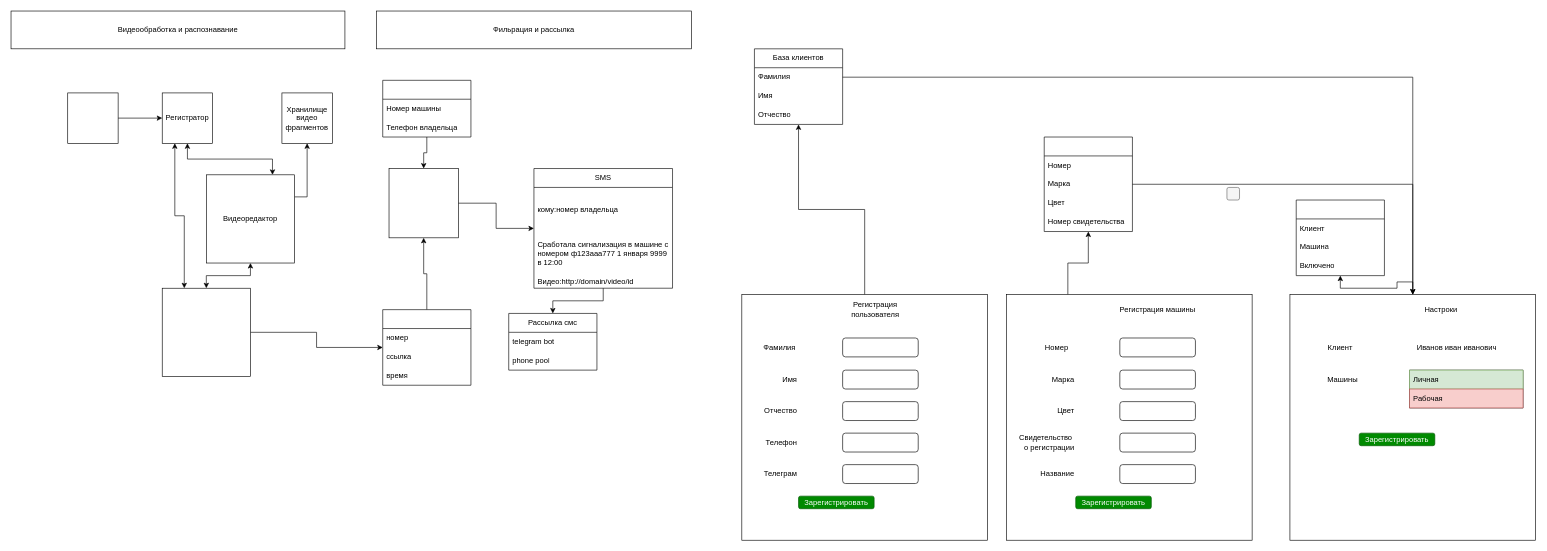
Some shapes in this 1547 by 551 pixel diagram are drawn without their labels. Here are the shapes that lost their labels. From the top down, the box of each, then its label:
(67, 92, 118, 143): IP камера
(382, 80, 471, 137): База
(388, 168, 458, 238): Формирователь сообщений
(1044, 136, 1132, 232): База машин
(1296, 199, 1384, 276): База настроек
(162, 288, 250, 376): Распознаватель
(382, 309, 471, 385): Событие
